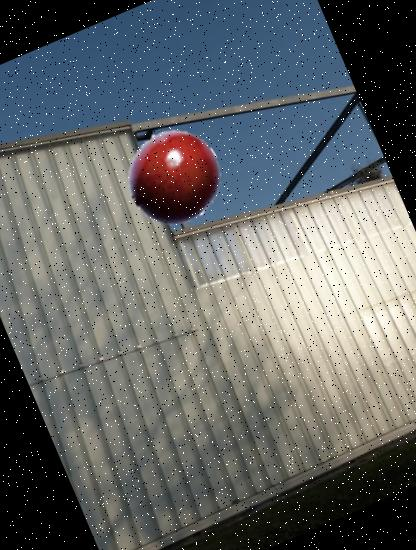Tamarillo: (112, 114, 237, 240)
